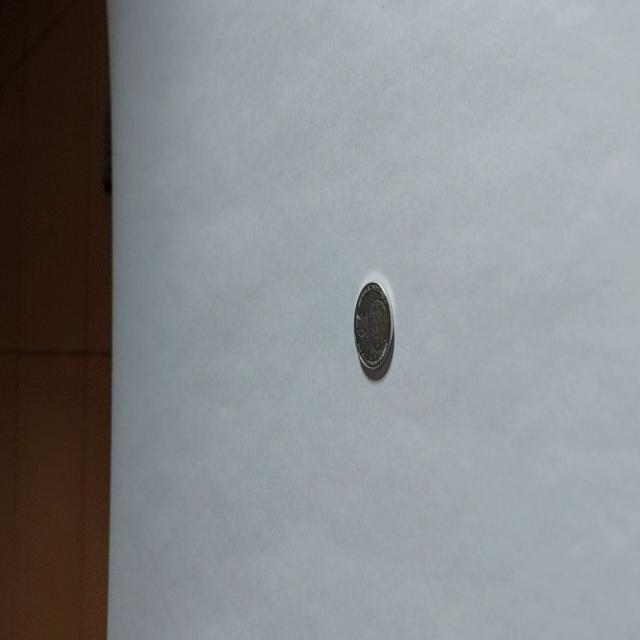seratus rupiah: (352, 279, 394, 377)
